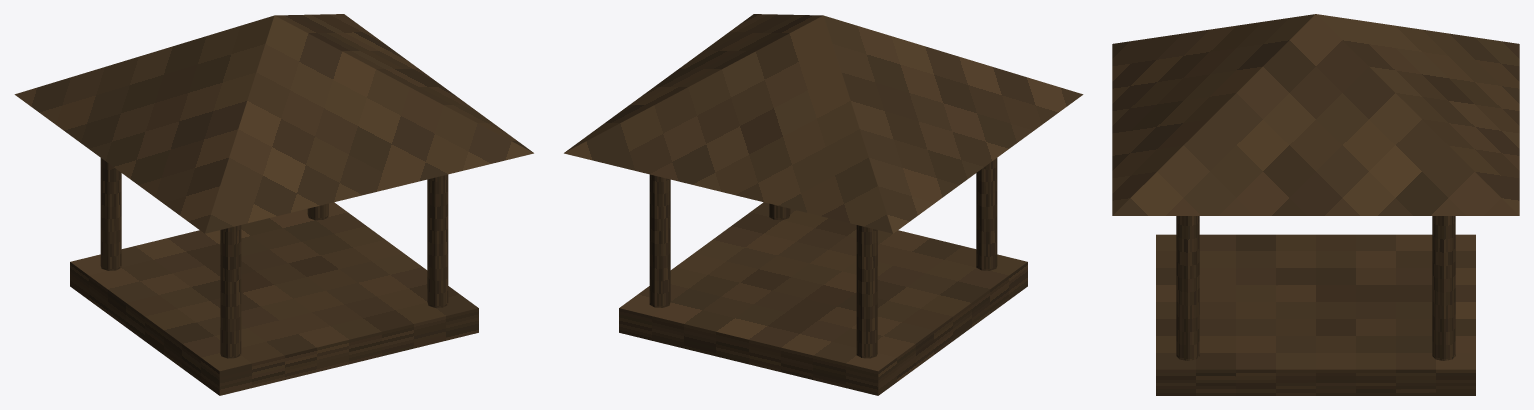
The model's file is pavilion_45.glb.
3 renders of one model, left to right at view 1: azimuth 30°, elevation 25°; view 2: azimuth 150°, elevation 25°; view 3: azimuth 270°, elevation 25°, orthographic. The views are drawn at different scales.
Parts seen in each view (by area): view 1: Roof, Floor, Column, Column.002, Column.001; view 2: Roof, Floor, Column.001, Column.003, Column; view 3: Roof, Floor, Column.002, Column.003.
Part boxes in pixels (x1=…): Roof: x1=14, y1=14, x2=533, y2=233; Floor: x1=70, y1=202, x2=478, y2=395; Column: x1=220, y1=225, x2=241, y2=358; Column.002: x1=427, y1=174, x2=448, y2=307; Column.001: x1=100, y1=158, x2=121, y2=270; Roof: x1=564, y1=14, x2=1083, y2=233; Floor: x1=619, y1=202, x2=1027, y2=395; Column.001: x1=856, y1=225, x2=877, y2=358; Column.003: x1=649, y1=174, x2=670, y2=307; Column: x1=976, y1=158, x2=997, y2=270; Roof: x1=1112, y1=14, x2=1519, y2=215; Floor: x1=1156, y1=234, x2=1475, y2=395; Column.002: x1=1176, y1=216, x2=1199, y2=360; Column.003: x1=1432, y1=216, x2=1455, y2=360.
Bounding box in the file's own units: 4.2 × 3.58 × 4.2.
1 material, 1 textured.
